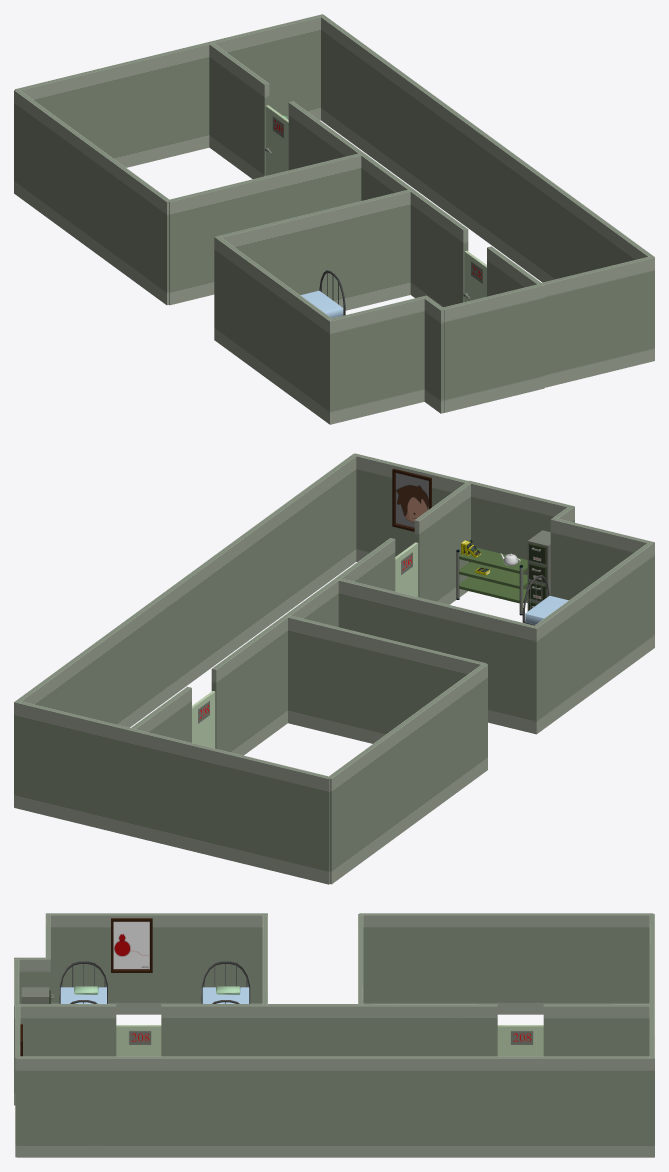
File: level_normal.FBX
The picture shows the model from 3 angles, top to bottom: view 1: azimuth 30°, elevation 25°; view 2: azimuth 150°, elevation 25°; view 3: azimuth 270°, elevation 25°; orthographic projection. The views are drawn at different scales.
Visible parts, largest first — view 1: Box095, Box099, Box097, Box008, Box005, Box096, Box093, Box001, Box002, Box007, Box100, Box004 (+4 smaller); view 2: Box099, Box095, Box097, Box096, Box005, Box008, Box007, Box002, Box006, Box001, Box093, Box068 (+6 smaller); view 3: Box095, Box097, Box007, Box005, Box100, Box006, Box122, Box098, Box031, Box004, Box099, MATRAS004 (+8 smaller).
Part boxes in pixels (x1,y1,x2,y2): Box095: (318, 14, 654, 282); Box099: (15, 14, 323, 167); Box097: (14, 89, 168, 305); Box008: (217, 190, 413, 310); Box005: (214, 236, 331, 422); Box096: (167, 152, 363, 305); Box093: (541, 256, 654, 387); Box001: (442, 284, 543, 412); Box002: (327, 295, 426, 424); Box007: (288, 101, 468, 307); Box100: (209, 43, 269, 178); Box004: (422, 295, 444, 413); Box099: (14, 701, 330, 884); Box095: (14, 453, 357, 807); Box097: (328, 663, 487, 884); Box096: (286, 615, 486, 743); Box005: (532, 543, 652, 734); Box008: (335, 578, 536, 733); Box007: (211, 538, 395, 755); Box002: (551, 517, 654, 649); Box006: (414, 480, 472, 604); Box001: (467, 481, 570, 602); Box093: (353, 453, 467, 561); Box068: (456, 540, 527, 615); Box095: (16, 1056, 654, 1157); Box097: (359, 913, 653, 1014); Box007: (161, 1004, 497, 1056); Box005: (47, 913, 267, 1014); Box100: (543, 1004, 649, 1056); Box006: (14, 1004, 116, 1105); Box122: (111, 918, 152, 972); Box098: (497, 1025, 543, 1056); Box031: (116, 1025, 161, 1056); Box004: (14, 957, 50, 1003); Box099: (649, 914, 654, 1156); MATRAS004: (202, 987, 249, 1003).
Bounding box in the file's own units: 342 × 109 × 637.
11 materials, 3 textured.
